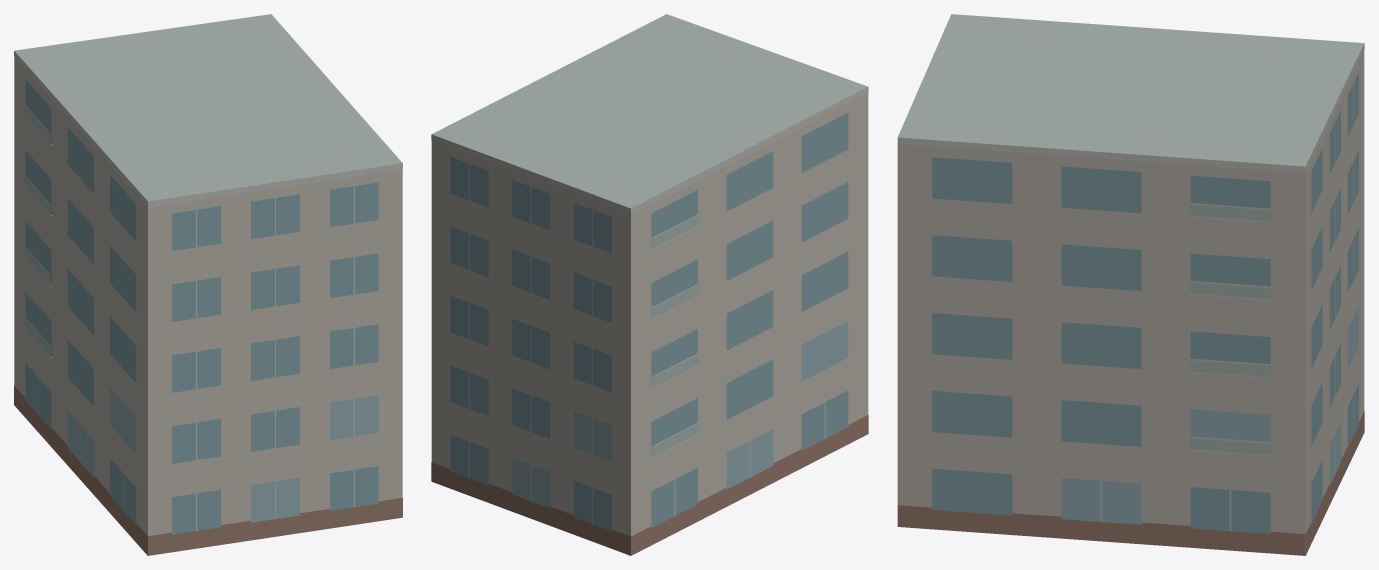
The model's file is survey-upis-32978369.glb.
The picture shows the model from 3 angles, left to right: view 1: azimuth 30°, elevation 25°; view 2: azimuth 150°, elevation 25°; view 3: azimuth 270°, elevation 25°; orthographic projection. The views are drawn at different scales.
Parts seen in each view (by area): view 1: survey-upis-32978369.tmp; view 2: survey-upis-32978369.tmp; view 3: survey-upis-32978369.tmp.
Part boxes in pixels (x1,y1,x2,y2): survey-upis-32978369.tmp: [14, 14, 402, 555]; survey-upis-32978369.tmp: [431, 14, 868, 555]; survey-upis-32978369.tmp: [897, 14, 1364, 555].
Size of the model in its own units: 11.95 by 14.21 by 15.45.
